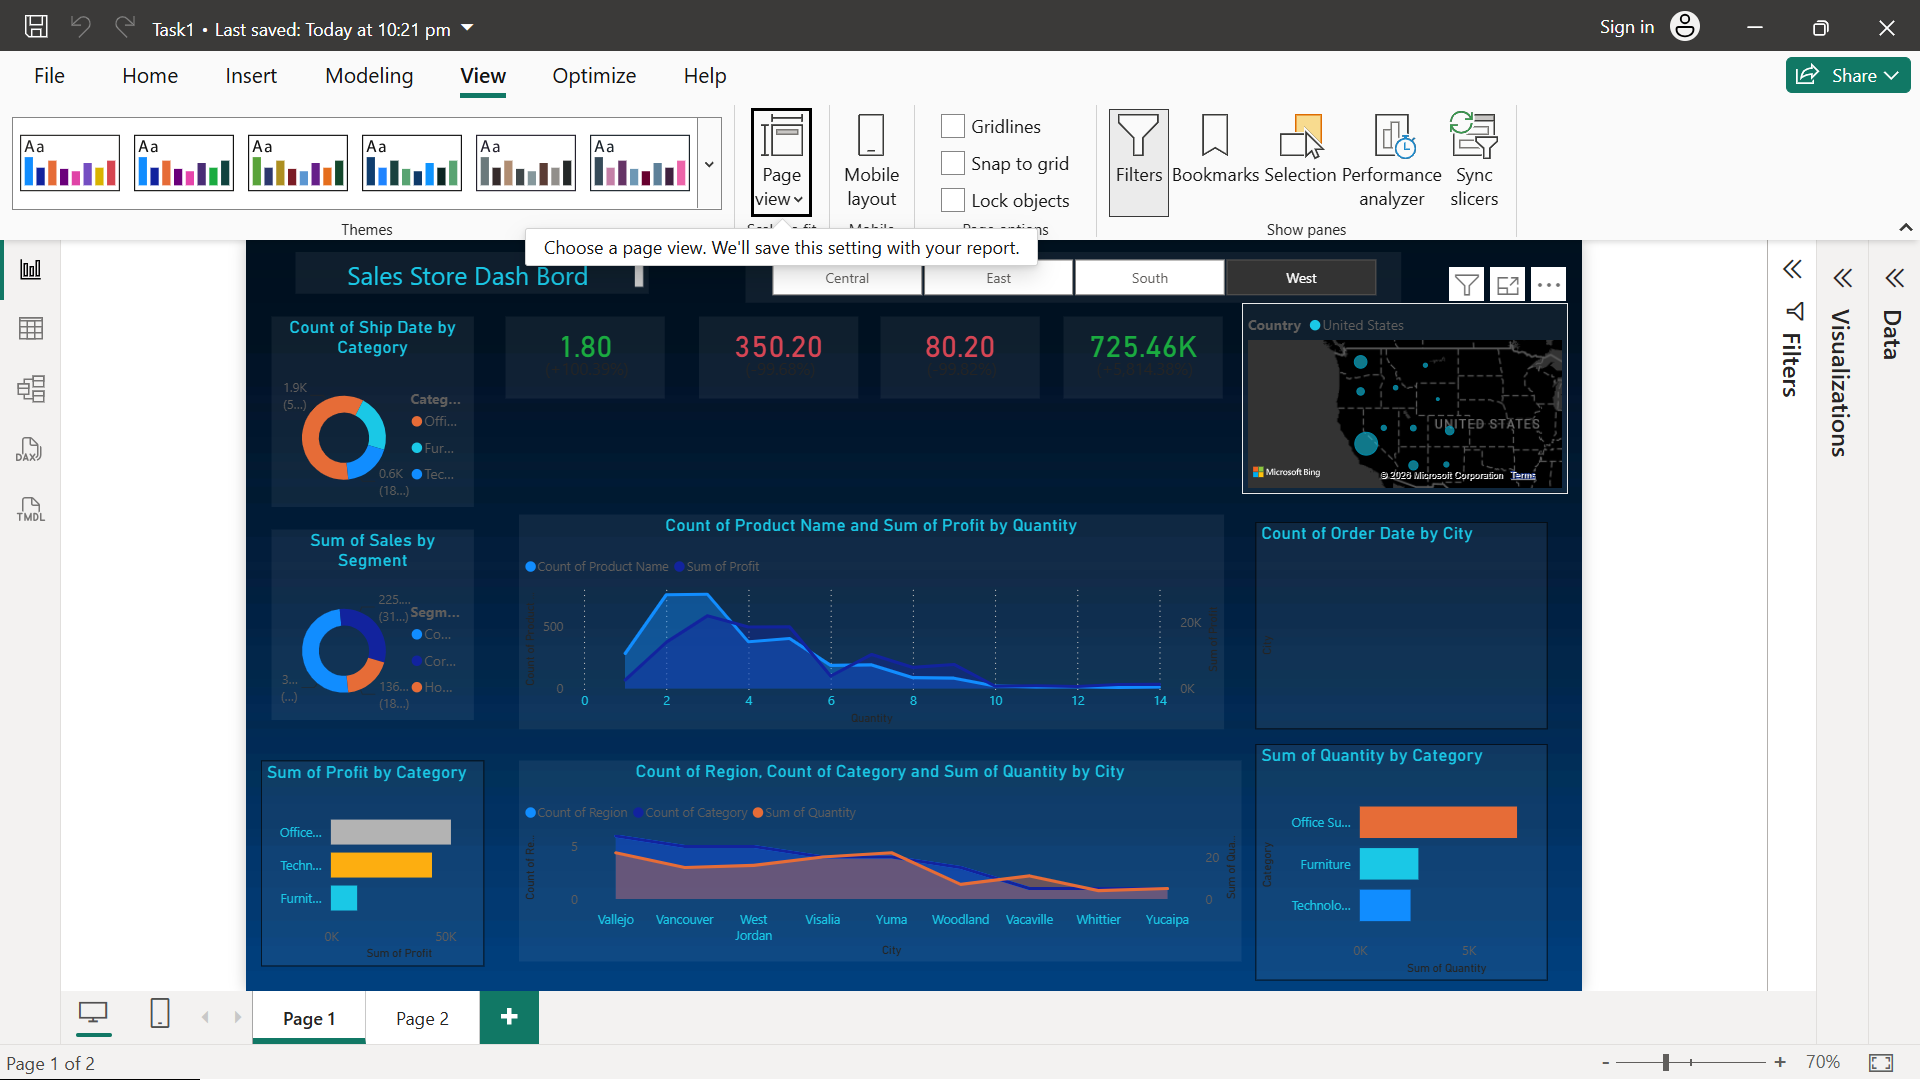

This screenshot's page, from the dashboard's own definition file:
{"tool":"powerbi","page":{"name":"Page 1","canvas":[1280,720],"ordinal":0},"visuals":[{"type":"clusteredBarChart","fields":{"Category":["Sample - Superstore.Category"],"Y":["Sum(Sample - Superstore.Quantity)"]},"box":[967.1,482.9,279.7,226.8],"z":0},{"type":"clusteredBarChart","fields":{"Category":["Sample - Superstore.City"],"Y":["CountNonNull(Sample - Superstore.Order Date)"]},"box":[967.1,270,279.7,198.4],"z":1000},{"type":"clusteredBarChart","fields":{"Y":["Sum(Sample - Superstore.Profit)"],"Category":["Sample - Superstore.Category"]},"box":[14.3,498.6,214.3,197.1],"z":2000},{"type":"areaChart","fields":{"Y":["CountNonNull(Sample - Superstore.Product Name)"],"Category":["Sample - Superstore.Quantity"],"Y2":["Sum(Sample - Superstore.Profit)"]},"box":[261.4,262.9,675.7,205.7],"z":3000},{"type":"areaChart","fields":{"Y":["CountNonNull(Sample - Superstore.Region)","CountNonNull(Sample - Superstore.Category)"],"Category":["Sample - Superstore.City"],"Y2":["Sum(Sample - Superstore.Quantity)"]},"box":[261.4,498.6,692.9,192.9],"z":4000},{"type":"map","fields":{"Category":["Sample - Superstore.State"],"Series":["Sample - Superstore.Country"],"Size":["CountNonNull(Sample - Superstore.Region)"]},"box":[954.3,60,312.9,182.9],"z":5000},{"type":"donutChart","fields":{"Y":["Sum(Sample - Superstore.Sales)"],"Category":["Sample - Superstore.Segment"]},"box":[24.3,277.1,194.3,182.9],"z":6000},{"type":"donutChart","fields":{"Y":["CountNonNull(Sample - Superstore.Ship Date)"],"Category":["Sample - Superstore.Category"]},"box":[24.3,72.9,194.3,182.9],"z":7000},{"type":"slicer","fields":{"Values":["Sample - Superstore.Region"]},"box":[478.6,11.4,628.6,48.6],"z":8000},{"type":"textbox","box":[47.1,11.4,338.6,40],"z":9000},{"type":"kpi","fields":{"Indicator":["Sum(Sample - Superstore.Discount)"],"Goal":["Sum(Sample - Superstore.Profit)"],"TrendLine":["Sample - Superstore.City"]},"box":[248.6,72.9,152.9,78.6],"z":10000},{"type":"kpi","fields":{"Indicator":["Sum(Sample - Superstore.Discount)"],"Goal":["Sum(Sample - Superstore.Profit)"],"TrendLine":["Sample - Superstore.Category"]},"box":[608.6,72.9,152.9,78.6],"z":11000},{"type":"kpi","fields":{"Indicator":["Sum(Sample - Superstore.Discount)"],"Goal":["Sum(Sample - Superstore.Profit)"],"TrendLine":["Sample - Superstore.Region"]},"box":[434.3,72.9,152.9,78.6],"z":12000},{"type":"kpi","fields":{"Indicator":["Sum(Sample - Superstore.Sales)"],"Goal":["Sum(Sample - Superstore.Quantity)"],"TrendLine":["Sample - Superstore.Region"]},"box":[784.3,72.9,152.9,78.6],"z":13000}]}

Visuals, with their boxes on the page's 1280x720 design canvas (x1, y1, x2, y2). These are canvas units, not pixel positions in the 1920x1080 screenshot, which may show the page scaled, cropped or inside an application window:
clusteredBarChart - Sample - Superstore.Category x Sum(Sample - Superstore.Quantity): [967, 483, 1247, 710]
clusteredBarChart - Sample - Superstore.City x CountNonNull(Sample - Superstore.Order Date): [967, 270, 1247, 468]
clusteredBarChart - Sum(Sample - Superstore.Profit) x Sample - Superstore.Category: [14, 499, 229, 696]
areaChart - CountNonNull(Sample - Superstore.Product Name) x Sample - Superstore.Quantity: [261, 263, 937, 469]
areaChart - CountNonNull(Sample - Superstore.Region) x CountNonNull(Sample - Superstore.Category): [261, 499, 954, 692]
map - Sample - Superstore.State x Sample - Superstore.Country: [954, 60, 1267, 243]
donutChart - Sum(Sample - Superstore.Sales) x Sample - Superstore.Segment: [24, 277, 219, 460]
donutChart - CountNonNull(Sample - Superstore.Ship Date) x Sample - Superstore.Category: [24, 73, 219, 256]
slicer - Sample - Superstore.Region: [479, 11, 1107, 60]
textbox: [47, 11, 386, 51]
kpi - Sum(Sample - Superstore.Discount) x Sum(Sample - Superstore.Profit): [249, 73, 402, 152]
kpi - Sum(Sample - Superstore.Discount) x Sum(Sample - Superstore.Profit): [609, 73, 762, 152]
kpi - Sum(Sample - Superstore.Discount) x Sum(Sample - Superstore.Profit): [434, 73, 587, 152]
kpi - Sum(Sample - Superstore.Sales) x Sum(Sample - Superstore.Quantity): [784, 73, 937, 152]
